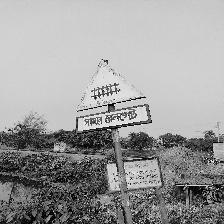Rail-crossing: (75, 60, 151, 133)
